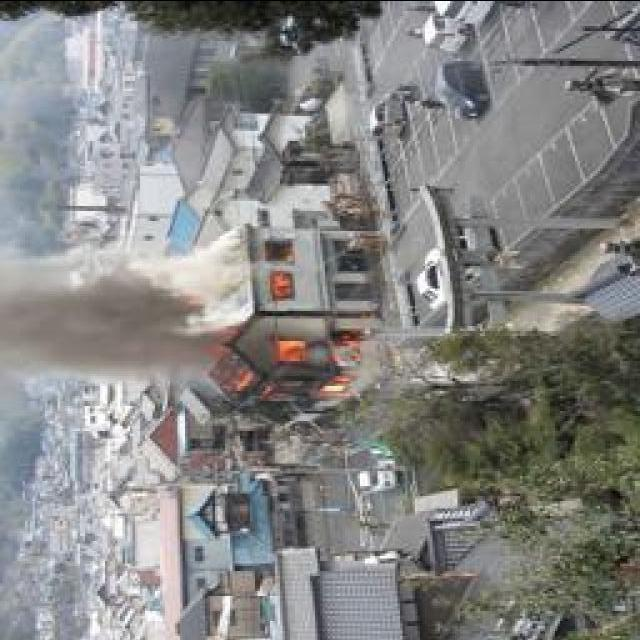Fire: (225, 330, 361, 405), (268, 261, 304, 304)
